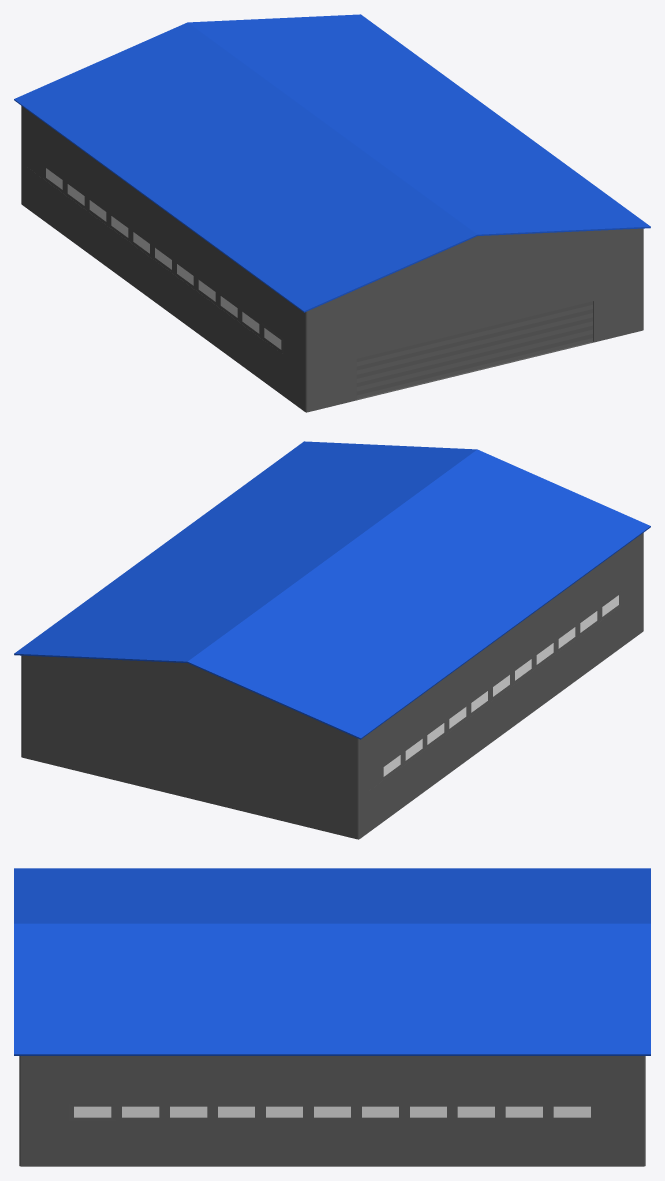
The model's file is warehouse.glb.
The picture shows the model from 3 angles, top to bottom: view 1: azimuth 30°, elevation 25°; view 2: azimuth 150°, elevation 25°; view 3: azimuth 270°, elevation 25°; orthographic projection. The views are drawn at different scales.
Parts seen in each view (by area): view 1: roof, warehouse, windows; view 2: roof, warehouse, windows; view 3: roof, warehouse, windows.
Part boxes in pixels (x1,y1,x2,y2): roof: (14,14,650,312); warehouse: (21,106,643,412); windows: (46,168,281,349); roof: (14,441,650,739); warehouse: (21,533,643,839); windows: (383,595,618,776); roof: (14,868,650,1055); warehouse: (19,1056,645,1166); windows: (74,1106,590,1117).
Size of the model in its own units: 42.84 by 16.36 by 62.01.
